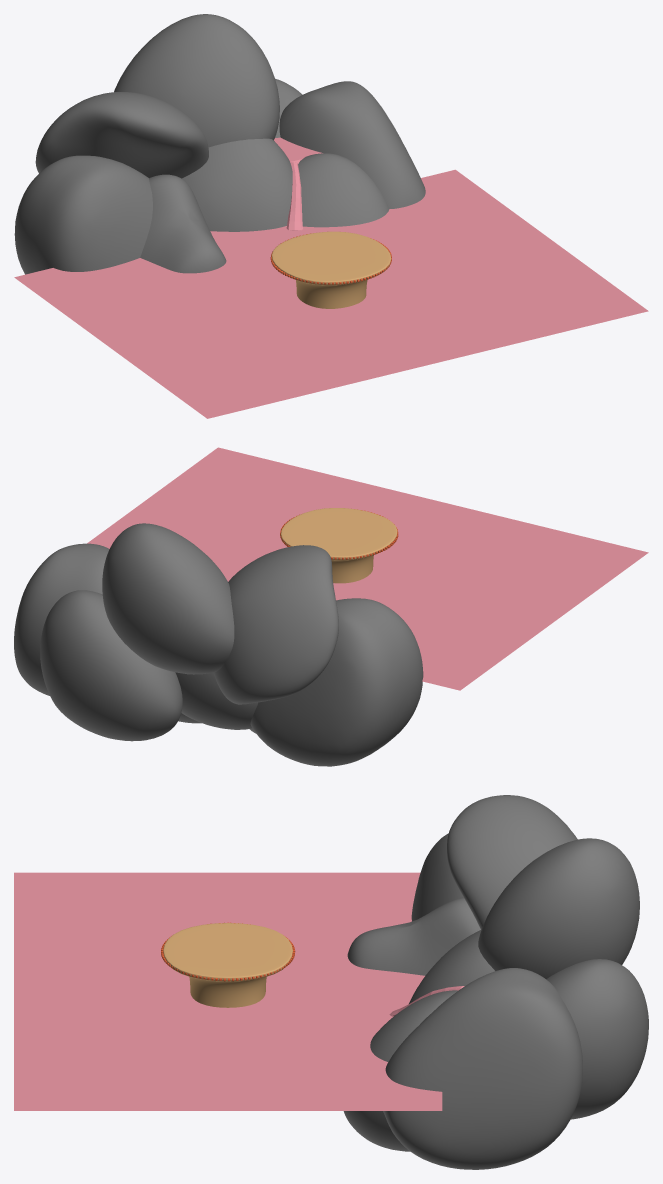
The model's file is fallingStarsMap.fbx.
The picture shows the model from 3 angles, top to bottom: view 1: azimuth 30°, elevation 25°; view 2: azimuth 150°, elevation 25°; view 3: azimuth 270°, elevation 25°; orthographic projection. The views are drawn at different scales.
Parts seen in each view (by area): view 1: Plane, rock.005, rock.008, rock.004, rock.007, rock.002, Cube, rock.010, rock, Plane.002; view 2: Plane, rock.008, rock.005, rock.004, rock.003, rock.007, Cube, rock.002; view 3: Plane, rock.007, rock.005, rock.003, rock.004, Cube, rock.010, rock, rock.002, rock.008.
Boxes of the visible parts, left/top/right/bottom form: Plane: left=14, top=169, right=648, bottom=418; rock.005: left=114, top=14, right=279, bottom=147; rock.008: left=14, top=155, right=152, bottom=274; rock.004: left=35, top=92, right=208, bottom=178; rock.007: left=279, top=81, right=425, bottom=208; rock.002: left=182, top=138, right=292, bottom=231; Cube: left=271, top=231, right=391, bottom=308; rock.010: left=140, top=174, right=226, bottom=273; rock: left=298, top=153, right=389, bottom=227; Plane.002: left=286, top=162, right=302, bottom=230; Plane: left=87, top=447, right=648, bottom=690; rock.008: left=250, top=598, right=423, bottom=766; rock.005: left=102, top=523, right=234, bottom=674; rock.004: left=213, top=545, right=338, bottom=704; rock.003: left=40, top=590, right=182, bottom=741; rock.007: left=14, top=543, right=109, bottom=695; Cube: left=280, top=508, right=397, bottom=583; rock.002: left=175, top=672, right=258, bottom=729; Plane: left=14, top=872, right=442, bottom=1110; rock.007: left=383, top=968, right=582, bottom=1169; rock.005: left=478, top=838, right=639, bottom=978; rock.003: left=546, top=959, right=648, bottom=1119; rock.004: left=447, top=795, right=577, bottom=929; Cube: left=163, top=923, right=292, bottom=1007; rock.010: left=347, top=897, right=480, bottom=975; rock: left=343, top=990, right=457, bottom=1151; rock.002: left=409, top=929, right=494, bottom=1003; rock.008: left=411, top=833, right=463, bottom=921.
Size of the model in its own units: 47138 by 25791 by 53047.
